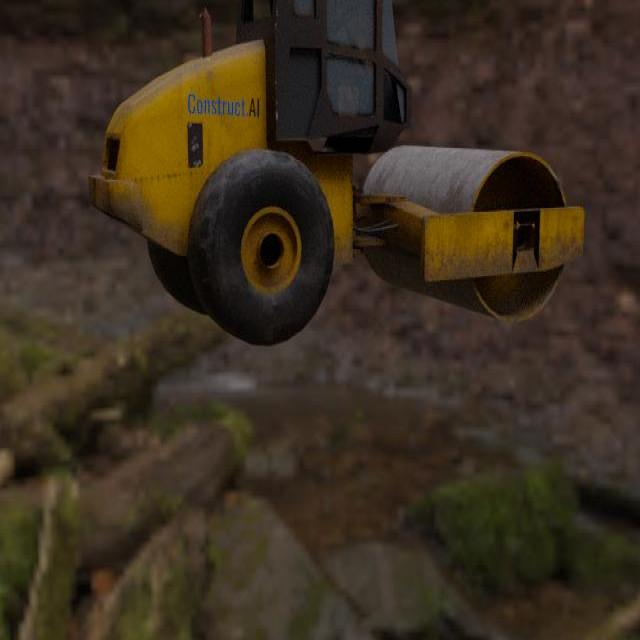Roller: (88, 0, 584, 348)
